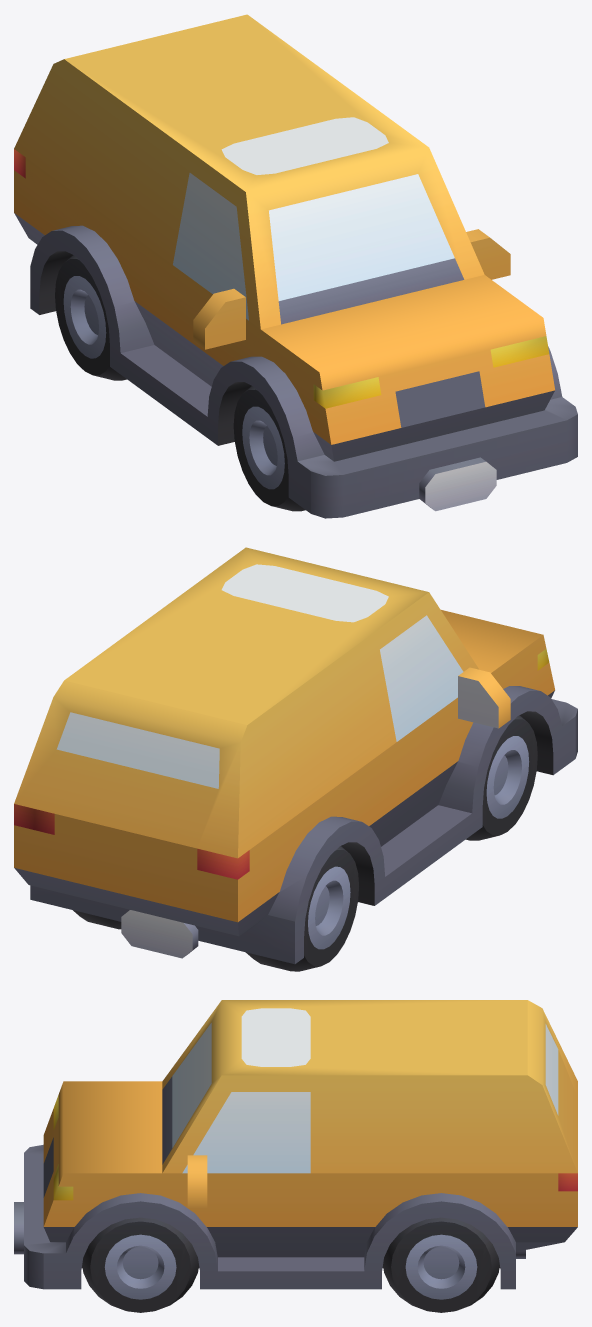
The model's file is lyxjeep.glb.
3 views of the same model, one above another, from view 1: azimuth 30°, elevation 25°; view 2: azimuth 150°, elevation 25°; view 3: azimuth 270°, elevation 25° (orthographic). The views are drawn at different scales.
Visible parts, largest first — view 1: body, wheel-front-right, wheel-back-right; view 2: body, wheel-back-right, wheel-front-right; view 3: body, wheel-back-left, wheel-front-left.
Part boxes in pixels (x1,y1,x2,y2): body: (14,14,577,518); wheel-front-right: (233,386,305,511); wheel-back-right: (55,255,126,380); body: (14,547,577,964); wheel-back-right: (246,846,358,971); wheel-front-right: (466,715,537,840); body: (14,1000,577,1289); wheel-back-left: (383,1217,499,1312); wheel-front-left: (82,1217,198,1312).
Bounding box in the file's own units: 1.5 × 1.3 × 2.85.
Materials: 1 (1 with a texture image).
